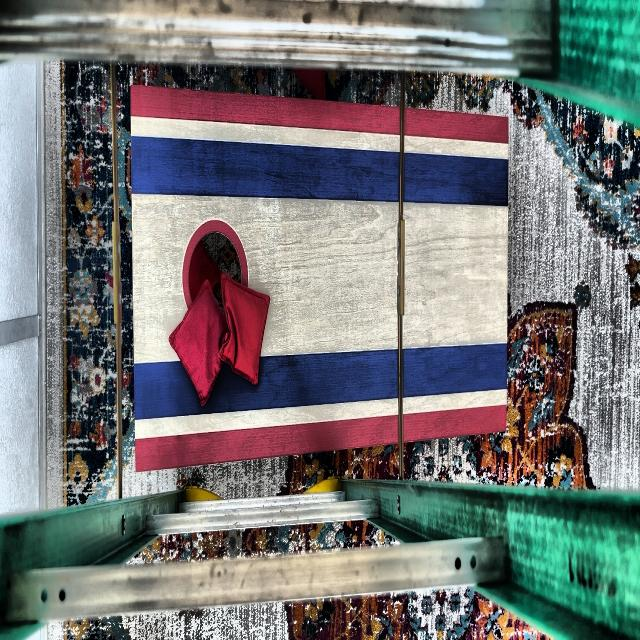board: (133, 116, 506, 432)
hole: (182, 218, 248, 336)
red-bean-bag: (168, 283, 226, 409), (218, 276, 270, 387), (294, 67, 326, 100)
red-bean-bag-in-hole: (189, 240, 225, 315)
